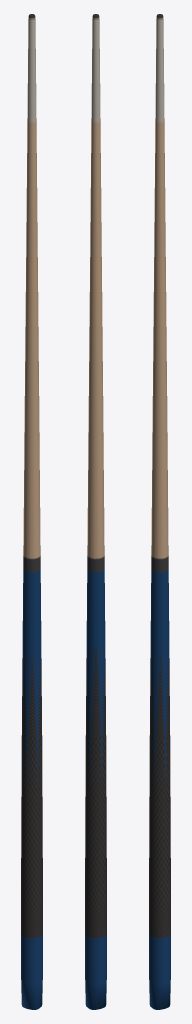
Rendered from poolStick0.dae.
The picture shows the model from 3 angles, left to right: view 1: azimuth 30°, elevation 25°; view 2: azimuth 150°, elevation 25°; view 3: azimuth 330°, elevation 25°; orthographic projection.
Parts seen in each view (by area): view 1: poolStick0; view 2: poolStick0; view 3: poolStick0.
Boxes of the visible parts, x1=… form: poolStick0: x1=21, y1=14, x2=42, y2=1009; poolStick0: x1=85, y1=14, x2=106, y2=1009; poolStick0: x1=149, y1=14, x2=170, y2=1009.
Bounding box in the file's own units: 2.98 × 147 × 2.98.
